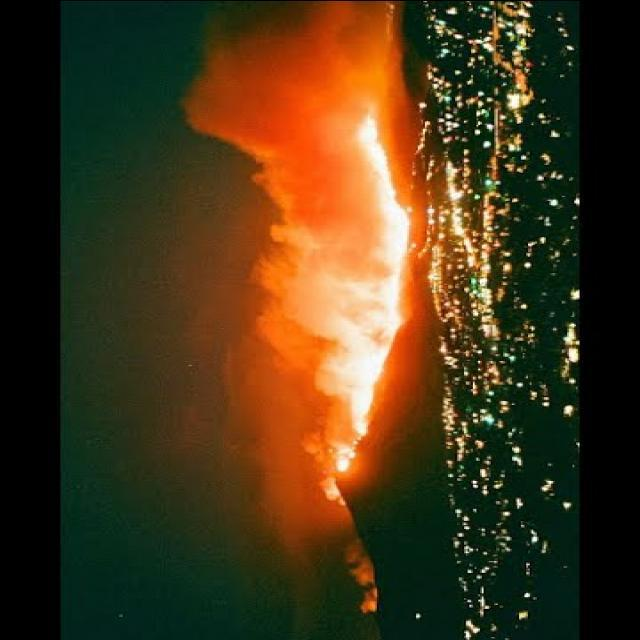Fire: (328, 86, 414, 468)
